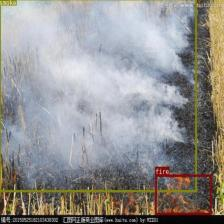fire: (155, 174, 211, 215)
smoke: (0, 0, 196, 192)
